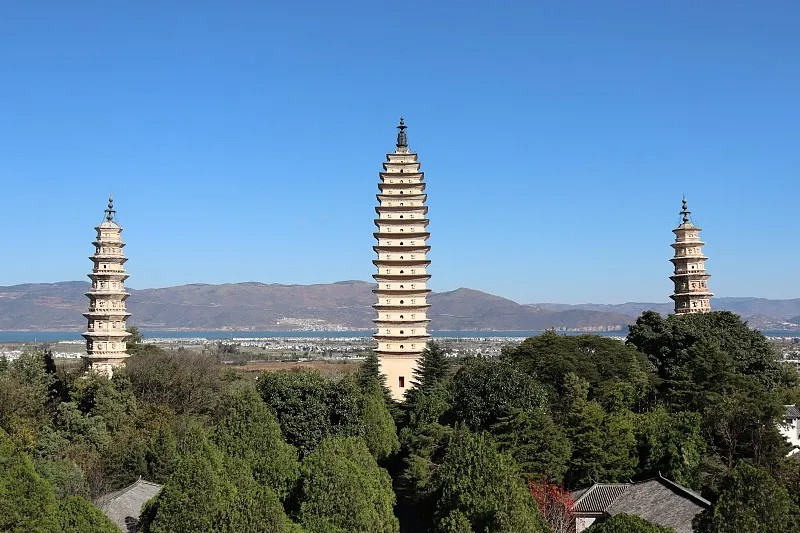ThreePagoda: (372, 115, 433, 403)
